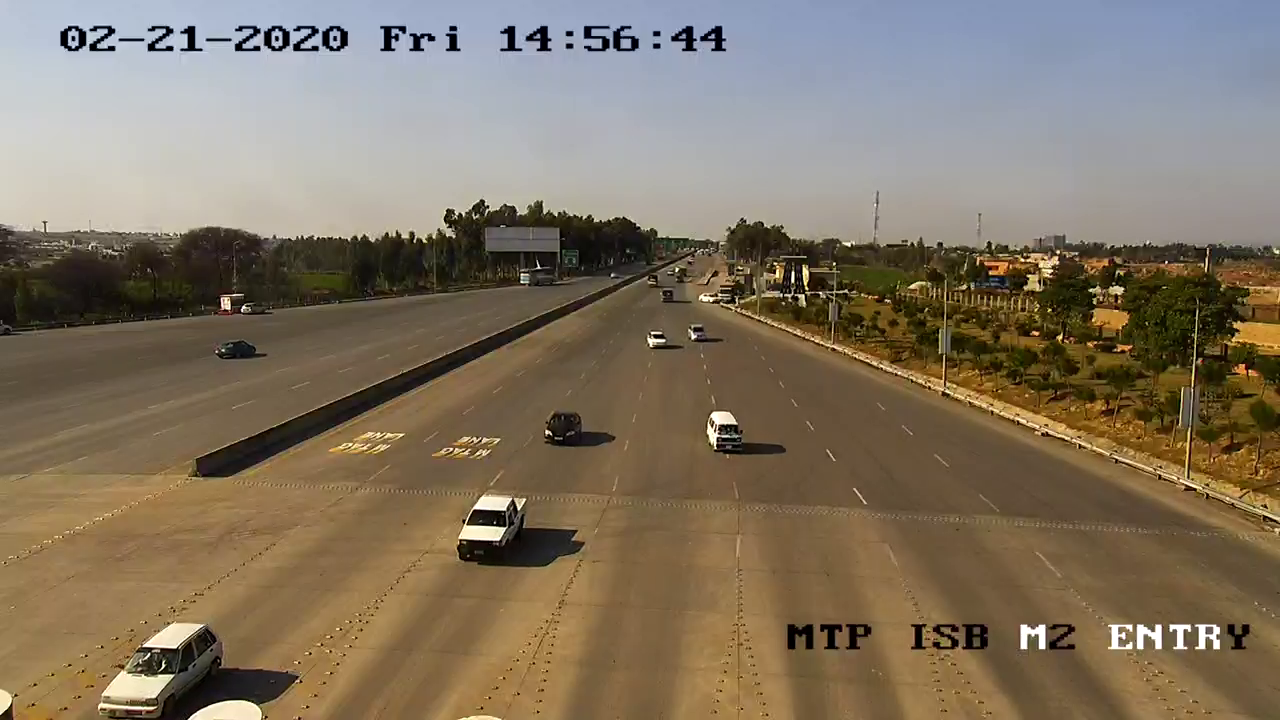f1: (82, 608, 234, 718), (448, 480, 537, 571), (529, 403, 595, 457), (699, 404, 752, 460)
